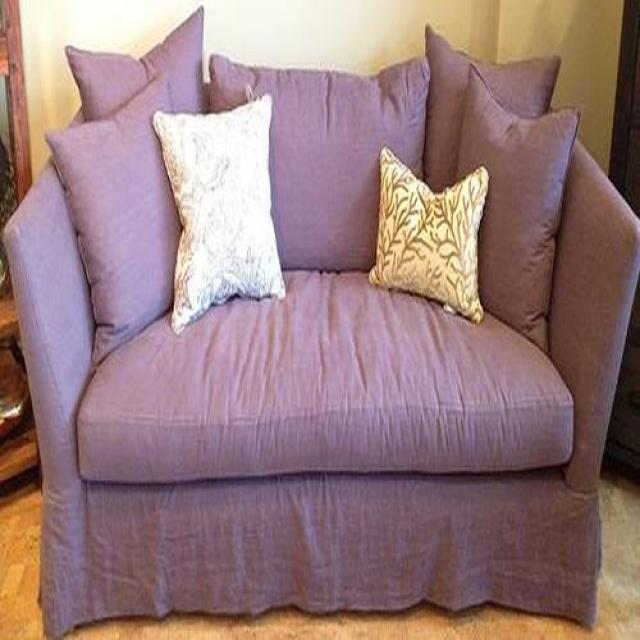sofa: (3, 14, 640, 640)
